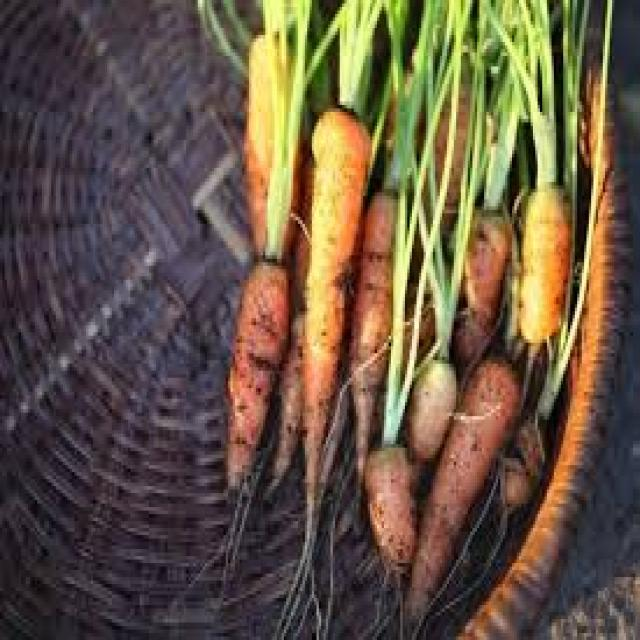Stale_Carrot: (226, 263, 289, 487)
